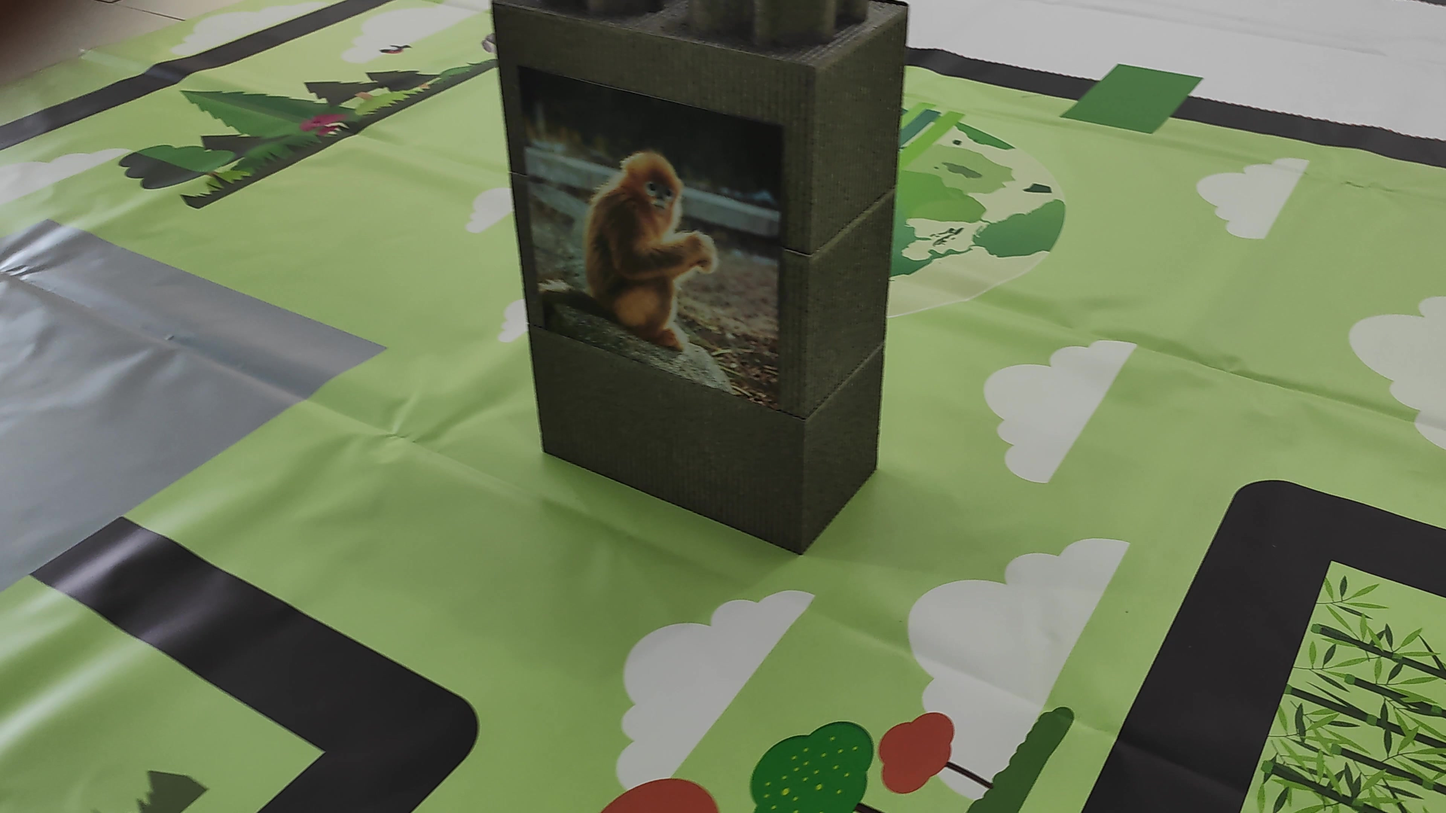monkey: (545, 152, 738, 364)
